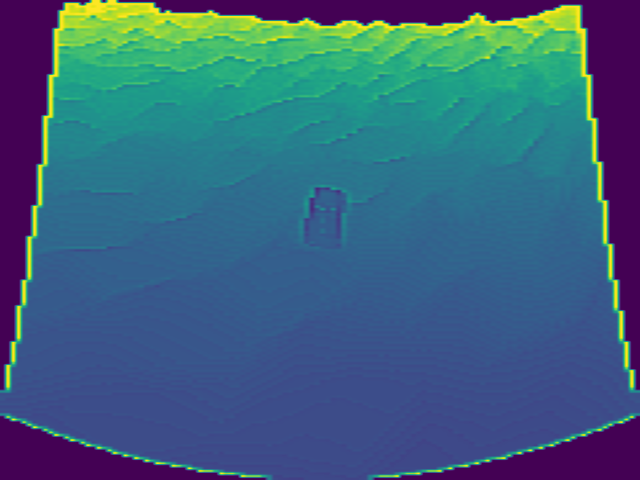car_0198: (304, 186, 346, 249)
